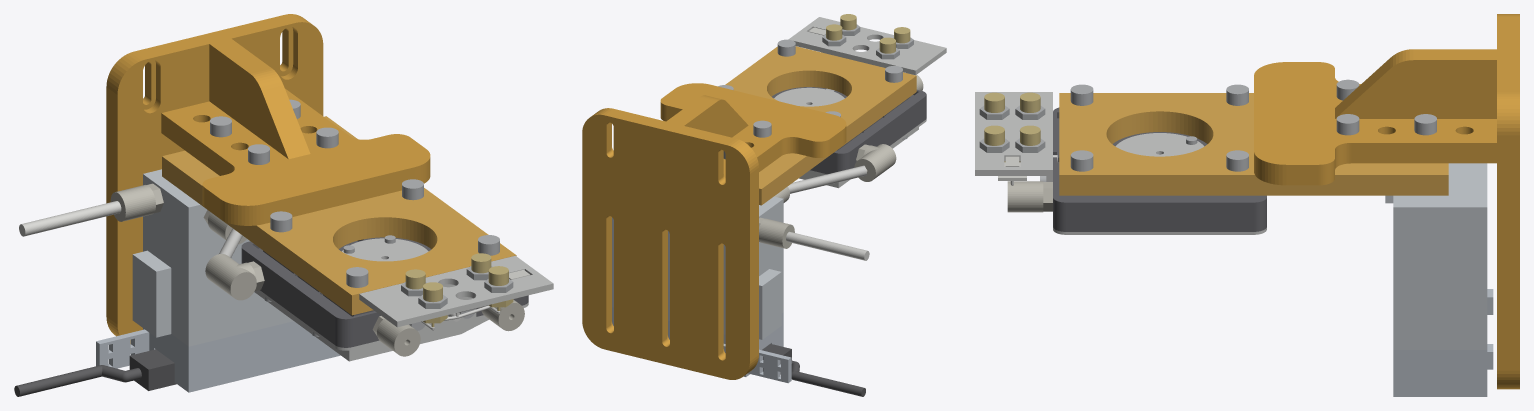
Rendered from v48_2t_dark.glb.
The picture shows the model from 3 angles, left to right: view 1: azimuth 30°, elevation 25°; view 2: azimuth 150°, elevation 25°; view 3: azimuth 270°, elevation 25°; orthographic projection. The views are drawn at different scales.
Visible parts, largest first — view 1: Grace 2025 앵글 브래킷 "angle bracket for Ramen holder.STEP" (형상 , Grace 새 세로판 60x120x7 (재출력, 레진 가정), Ø4.5 x4 48x48, 가운데 Ø33 구멍, [배기 블록 v2] 배기 센서 블록 본체 PETG 60x29x48.5 (가스 몸 17.5 + 센서 칸 31,, [배기 블록 v2] 덮개 PETG 60x29x16 (판 2 + Pico 트레이 14): Pico 보스 4, , 커넥터 브래킷 Al (밑판 26x18x2 + 판 57x24x2): SMA 구멍 Ø6.5 x6 (3열 x 2행, 셀 몸체 Al 6061 흑색 아노다이징 70x66x10 R4 (포켓 31x31x4.5 R1.5, 블록 자리 , [배기 블록 v2] USB 케이블 (노트북으로, 타이로 선반에 고정; 노트북은 허치 안 가능), 가스 KQ2H04-M5 x2 윗면 (+X 입구, −X 예비 N2/He), Ø2 → 앞면 (±19, +22), 텐트 틀 Al: 플랜지 1.0 (몸체 외곽, 안쪽 X -28.5…24.9, Z ±28.5) + 벽 2.5, , 가스 KQ2L04-M5 엘보 −X 옆면 출구 (Y 4.5, Z -20, 관 포트 아래로; 외형 가정), Ø2, SMA 암 판넬 잭 x4 (SAMZO SMA-KY-214형, 가정): 육각 어깨 AF 8 x 3 (판 앞),, M4x12 렌치볼트 x4 (판 뒤에서 몸체 M4 탭으로, 머리 Ø7x4) (+5 smaller); view 2: Grace 2025 앵글 브래킷 "angle bracket for Ramen holder.STEP" (형상 , Grace 새 세로판 60x120x7 (재출력, 레진 가정), Ø4.5 x4 48x48, 가운데 Ø33 구멍, 커넥터 브래킷 Al (밑판 26x18x2 + 판 57x24x2): SMA 구멍 Ø6.5 x6 (3열 x 2행, [배기 블록 v2] 배기 센서 블록 본체 PETG 60x29x48.5 (가스 몸 17.5 + 센서 칸 31,, 셀 몸체 Al 6061 흑색 아노다이징 70x66x10 R4 (포켓 31x31x4.5 R1.5, 블록 자리 , [배기 블록 v2] 덮개 PETG 60x29x16 (판 2 + Pico 트레이 14): Pico 보스 4, , [배기 블록 v2] USB 케이블 (노트북으로, 타이로 선반에 고정; 노트북은 허치 안 가능), 가스 KQ2L04-M5 엘보 −X 옆면 출구 (Y 4.5, Z -20, 관 포트 아래로; 외형 가정), Ø2, SMA 암 판넬 잭 x4 (SAMZO SMA-KY-214형, 가정): 육각 어깨 AF 8 x 3 (판 앞),, 어두움 마개 Al Ø15.8 + 단 Ø19.8 (카운터보어 안) + 나사 턱 Ø29x0.6 + 뒷면 가운데 , [배기 블록 v2] 배출 PU 관 Ø4 (토막만 그림, 실제 >= 300 mm), PU 관 Ø4 (셀 출구 → 배기 블록 입구, 블록은 40 mm 아래) (+5 smaller); view 3: Grace 2025 앵글 브래킷 "angle bracket for Ramen holder.STEP" (형상 , Grace 새 세로판 60x120x7 (재출력, 레진 가정), Ø4.5 x4 48x48, 가운데 Ø33 구멍, [배기 블록 v2] 배기 센서 블록 본체 PETG 60x29x48.5 (가스 몸 17.5 + 센서 칸 31,, 셀 몸체 Al 6061 흑색 아노다이징 70x66x10 R4 (포켓 31x31x4.5 R1.5, 블록 자리 , [배기 블록 v2] 덮개 PETG 60x29x16 (판 2 + Pico 트레이 14): Pico 보스 4, , 커넥터 브래킷 Al (밑판 26x18x2 + 판 57x24x2): SMA 구멍 Ø6.5 x6 (3열 x 2행, M4x12 렌치볼트 x4 (판 뒤에서 몸체 M4 탭으로, 머리 Ø7x4), SMA 암 판넬 잭 x4 (SAMZO SMA-KY-214형, 가정): 육각 어깨 AF 8 x 3 (판 앞),, 어두움 마개 Al Ø15.8 + 단 Ø19.8 (카운터보어 안) + 나사 턱 Ø29x0.6 + 뒷면 가운데 , 가스 KQ2H04-M5 x2 윗면 (+X 입구, −X 예비 N2/He), Ø2 → 앞면 (±19, +22), M4x16 볼트 + 너트 x4 (판 아래 구멍 ↔ 브래킷 세움판 Ø5.6 구멍 y 29/53), SMA 너트 AF 8 (모서리 9.24) x 2 x4 (판 뒷면 Y 18–20; 평면이 ±X를 봄 → 렌치는 (+1 smaller).
Boxes of the visible parts, x1=… form: Grace 2025 앵글 브래킷 "angle bracket for Ramen holder.STEP" (형상 : x1=106, y1=14, x2=430, y2=343; Grace 새 세로판 60x120x7 (재출력, 레진 가정), Ø4.5 x4 48x48, 가운데 Ø33 구멍: x1=162, y1=116, x2=516, y2=315; [배기 블록 v2] 배기 센서 블록 본체 PETG 60x29x48.5 (가스 몸 17.5 + 센서 칸 31,: x1=132, y1=169, x2=293, y2=346; [배기 블록 v2] 덮개 PETG 60x29x16 (판 2 + Pico 트레이 14): Pico 보스 4, : x1=96, y1=321, x2=340, y2=392; 커넥터 브래킷 Al (밑판 26x18x2 + 판 57x24x2): SMA 구멍 Ø6.5 x6 (3열 x 2행: x1=359, y1=255, x2=553, y2=333; 셀 몸체 Al 6061 흑색 아노다이징 70x66x10 R4 (포켓 31x31x4.5 R1.5, 블록 자리 : x1=241, y1=237, x2=528, y2=347; [배기 블록 v2] USB 케이블 (노트북으로, 타이로 선반에 고정; 노트북은 허치 안 가능): x1=14, y1=349, x2=176, y2=396; 가스 KQ2H04-M5 x2 윗면 (+X 입구, −X 예비 N2/He), Ø2 → 앞면 (±19, +22): x1=372, y1=299, x2=524, y2=356; 텐트 틀 Al: 플랜지 1.0 (몸체 외곽, 안쪽 X -28.5…24.9, Z ±28.5) + 벽 2.5, : x1=254, y1=290, x2=528, y2=361; 가스 KQ2L04-M5 엘보 −X 옆면 출구 (Y 4.5, Z -20, 관 포트 아래로; 외형 가정), Ø2: x1=205, y1=254, x2=264, y2=300; SMA 암 판넬 잭 x4 (SAMZO SMA-KY-214형, 가정): 육각 어깨 AF 8 x 3 (판 앞),: x1=405, y1=253, x2=513, y2=327; M4x12 렌치볼트 x4 (판 뒤에서 몸체 M4 탭으로, 머리 Ø7x4): x1=270, y1=179, x2=499, y2=287; Grace 2025 앵글 브래킷 "angle bracket for Ramen holder.STEP" (형상 : x1=582, y1=83, x2=846, y2=379; Grace 새 세로판 60x120x7 (재출력, 레진 가정), Ø4.5 x4 48x48, 가운데 Ø33 구멍: x1=725, y1=46, x2=916, y2=205; 커넥터 브래킷 Al (밑판 26x18x2 + 판 57x24x2): SMA 구멍 Ø6.5 x6 (3열 x 2행: x1=788, y1=17, x2=946, y2=75; [배기 블록 v2] 배기 센서 블록 본체 PETG 60x29x48.5 (가스 몸 17.5 + 센서 칸 31,: x1=612, y1=196, x2=783, y2=339; 셀 몸체 Al 6061 흑색 아노다이징 70x66x10 R4 (포켓 31x31x4.5 R1.5, 블록 자리 : x1=772, y1=87, x2=926, y2=174; [배기 블록 v2] 덮개 PETG 60x29x16 (판 2 + Pico 트레이 14): Pico 보스 4, : x1=612, y1=307, x2=791, y2=383; [배기 블록 v2] USB 케이블 (노트북으로, 타이로 선반에 고정; 노트북은 허치 안 가능): x1=762, y1=344, x2=865, y2=396; 가스 KQ2L04-M5 엘보 −X 옆면 출구 (Y 4.5, Z -20, 관 포트 아래로; 외형 가정), Ø2: x1=854, y1=144, x2=896, y2=181; SMA 암 판넬 잭 x4 (SAMZO SMA-KY-214형, 가정): 육각 어깨 AF 8 x 3 (판 앞),: x1=826, y1=14, x2=910, y2=67; 어두움 마개 Al Ø15.8 + 단 Ø19.8 (카운터보어 안) + 나사 턱 Ø29x0.6 + 뒷면 가운데 : x1=774, y1=87, x2=844, y2=106; [배기 블록 v2] 배출 PU 관 Ø4 (토막만 그림, 실제 >= 300 mm): x1=786, y1=231, x2=869, y2=260; PU 관 Ø4 (셀 출구 → 배기 블록 입구, 블록은 40 mm 아래): x1=788, y1=165, x2=866, y2=193; Grace 2025 앵글 브래킷 "angle bracket for Ramen holder.STEP" (형상 : x1=1254, y1=14, x2=1519, y2=389; Grace 새 세로판 60x120x7 (재출력, 레진 가정), Ø4.5 x4 48x48, 가운데 Ø33 구멍: x1=1059, y1=93, x2=1448, y2=195; [배기 블록 v2] 배기 센서 블록 본체 PETG 60x29x48.5 (가스 몸 17.5 + 센서 칸 31,: x1=1385, y1=163, x2=1487, y2=349; 셀 몸체 Al 6061 흑색 아노다이징 70x66x10 R4 (포켓 31x31x4.5 R1.5, 블록 자리 : x1=1053, y1=107, x2=1266, y2=231; [배기 블록 v2] 덮개 PETG 60x29x16 (판 2 + Pico 트레이 14): Pico 보스 4, : x1=1393, y1=289, x2=1493, y2=396; 커넥터 브래킷 Al (밑판 26x18x2 + 판 57x24x2): SMA 구멍 Ø6.5 x6 (3열 x 2행: x1=975, y1=92, x2=1052, y2=181; M4x12 렌치볼트 x4 (판 뒤에서 몸체 M4 탭으로, 머리 Ø7x4): x1=1070, y1=84, x2=1248, y2=171; SMA 암 판넬 잭 x4 (SAMZO SMA-KY-214형, 가정): 육각 어깨 AF 8 x 3 (판 앞),: x1=984, y1=92, x2=1040, y2=162; 어두움 마개 Al Ø15.8 + 단 Ø19.8 (카운터보어 안) + 나사 턱 Ø29x0.6 + 뒷면 가운데 : x1=1115, y1=133, x2=1204, y2=156; 가스 KQ2H04-M5 x2 윗면 (+X 입구, −X 예비 N2/He), Ø2 → 앞면 (±19, +22): x1=1007, y1=181, x2=1052, y2=212; M4x16 볼트 + 너트 x4 (판 아래 구멍 ↔ 브래킷 세움판 Ø5.6 구멍 y 29/53): x1=1336, y1=79, x2=1436, y2=135; SMA 너트 AF 8 (모서리 9.24) x 2 x4 (판 뒷면 Y 18–20; 평면이 ±X를 봄 → 렌치는: x1=979, y1=105, x2=1045, y2=152.
Size of the model in its own units: 117 by 104 by 168.
